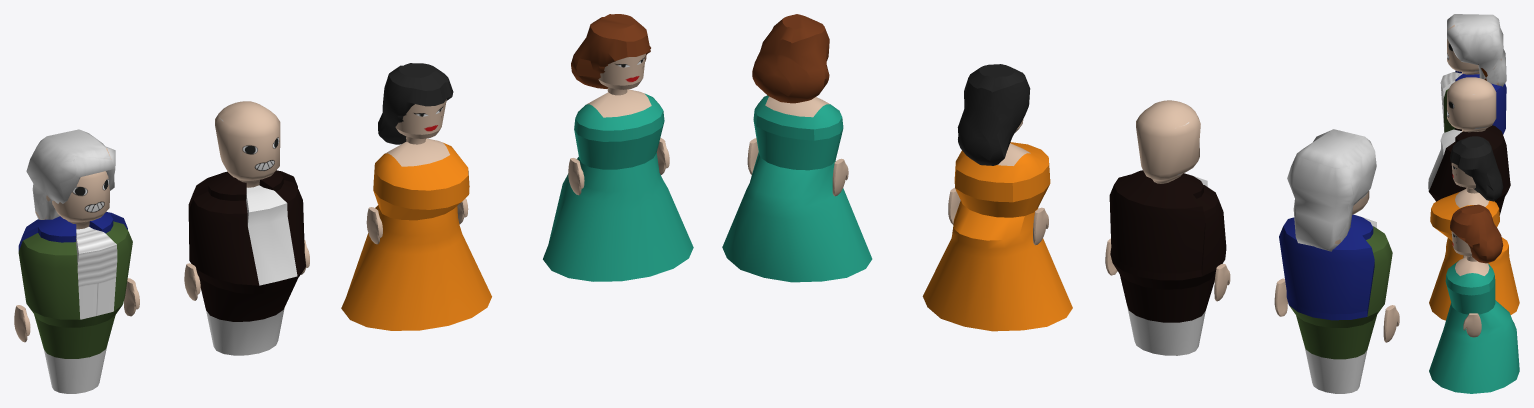
File: teatranti.fbx
3 views of the same model, side by side, from view 1: azimuth 30°, elevation 25°; view 2: azimuth 150°, elevation 25°; view 3: azimuth 270°, elevation 25° (orthographic). The views are drawn at different scales.
Visible parts, largest first — view 1: vestito donna.004, vestito donna.003, vestito uomo.008, vestito uomo.005, testa uomo.003, testa donna.003, testa donna.004, testa uomo.004, mani uomo.003, mani donna.004, mani donna.003, mani uomo.004; view 2: vestito donna.004, vestito donna.003, vestito uomo.008, vestito uomo.005, testa uomo.003, testa donna.003, testa donna.004, testa uomo.004, mani uomo.003, mani donna.003, mani donna.004, mani uomo.004; view 3: vestito donna.004, vestito donna.003, testa uomo.003, vestito uomo.008, testa donna.003, testa donna.004, testa uomo.004, vestito uomo.005, mani donna.004.
Part boxes in pixels (left/top/right/bottom): vestito donna.004: left=543, top=89, right=693, bottom=281; vestito donna.003: left=341, top=138, right=491, bottom=330; vestito uomo.008: left=188, top=170, right=305, bottom=355; vestito uomo.005: left=18, top=212, right=132, bottom=393; testa uomo.003: left=26, top=129, right=115, bottom=229; testa donna.003: left=378, top=63, right=453, bottom=144; testa donna.004: left=571, top=14, right=650, bottom=95; testa uomo.004: left=215, top=101, right=280, bottom=187; mani uomo.003: left=14, top=278, right=139, bottom=342; mani donna.004: left=568, top=137, right=669, bottom=195; mani donna.003: left=366, top=198, right=468, bottom=244; mani uomo.004: left=184, top=240, right=309, bottom=300; vestito donna.004: left=722, top=95, right=872, bottom=282; vestito donna.003: left=922, top=142, right=1072, bottom=331; vestito uomo.008: left=1109, top=170, right=1226, bottom=355; vestito uomo.005: left=1279, top=214, right=1392, bottom=393; testa uomo.003: left=1287, top=129, right=1376, bottom=251; testa donna.003: left=957, top=64, right=1030, bottom=165; testa donna.004: left=752, top=14, right=829, bottom=103; testa uomo.004: left=1136, top=100, right=1200, bottom=183; mani uomo.003: left=1274, top=278, right=1399, bottom=342; mani donna.003: left=948, top=187, right=1048, bottom=245; mani donna.004: left=747, top=138, right=848, bottom=196; mani uomo.004: left=1105, top=238, right=1230, bottom=301; vestito donna.004: left=1429, top=257, right=1519, bottom=393; vestito donna.003: left=1429, top=189, right=1519, bottom=320; testa uomo.003: left=1447, top=14, right=1506, bottom=86; vestito uomo.008: left=1428, top=125, right=1510, bottom=215; testa donna.003: left=1450, top=136, right=1503, bottom=201; testa donna.004: left=1450, top=204, right=1503, bottom=263; testa uomo.004: left=1447, top=77, right=1496, bottom=132; vestito uomo.005: left=1440, top=70, right=1506, bottom=134; mani donna.004: left=1463, top=313, right=1481, bottom=337.
Size of the model in its own units: 630 by 219 by 108.
9 materials, 1 textured.
